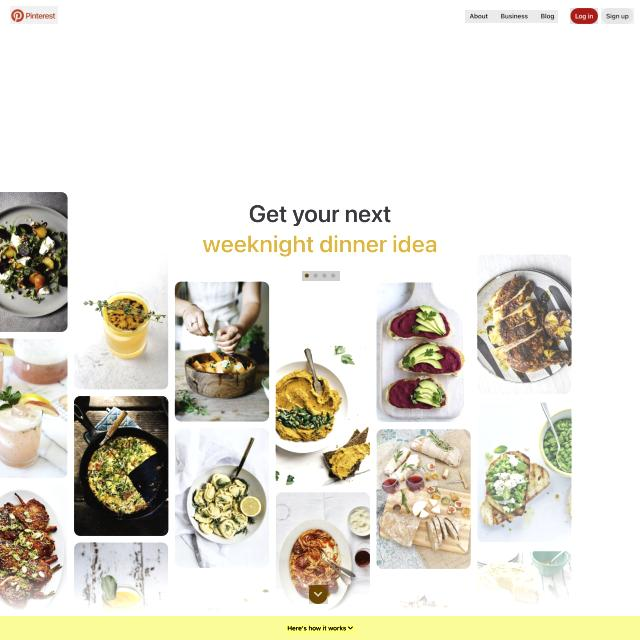CheckBox: (601, 8, 634, 24), (570, 8, 598, 24)
alert: (286, 624, 356, 634)
bag: (0, 0, 640, 33)
card: (0, 190, 640, 616)
carousel: (310, 585, 330, 604)
date picker: (10, 6, 58, 24)
decoration: (465, 10, 558, 23)
dropdown: (302, 271, 339, 281)
image: (194, 199, 440, 258)
